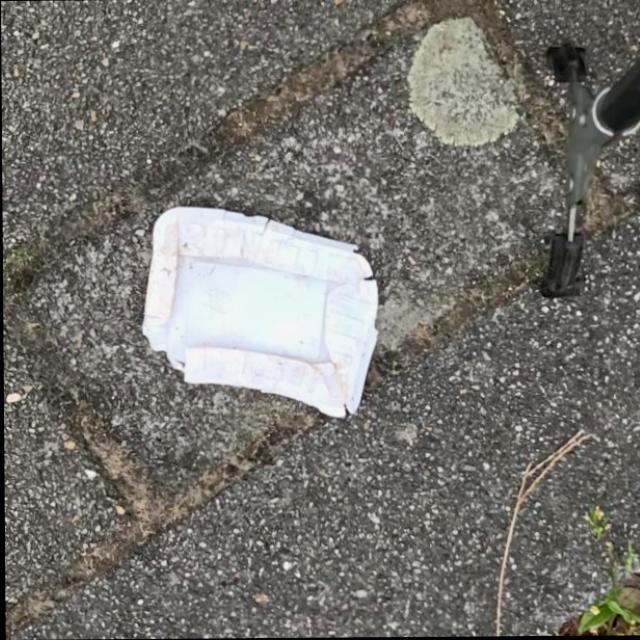Plastic: (138, 199, 381, 419)
